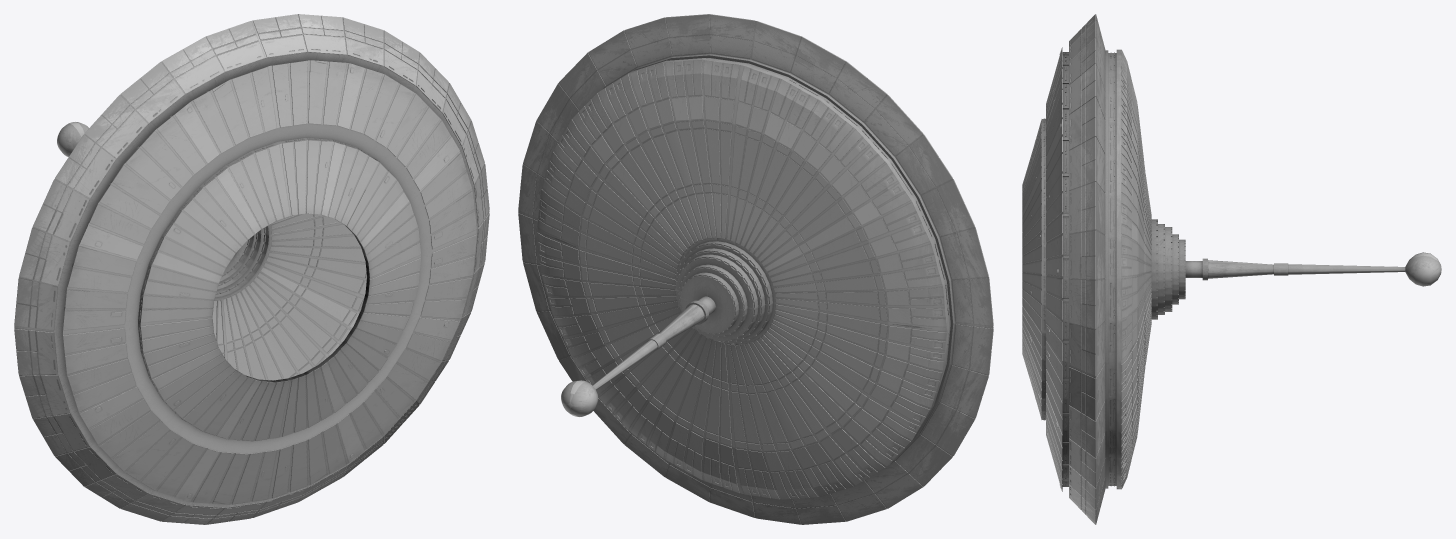
File: hull_LOD0.gltf
The picture shows the model from 3 angles, left to right: view 1: azimuth 30°, elevation 25°; view 2: azimuth 150°, elevation 25°; view 3: azimuth 270°, elevation 25°; orthographic projection. The views are drawn at different scales.
Parts seen in each view (by area): view 1: hull_LOD0; view 2: hull_LOD0; view 3: hull_LOD0.
Boxes of the visible parts, <box> form: hull_LOD0: <box>14,14,489,524</box>; hull_LOD0: <box>518,14,993,524</box>; hull_LOD0: <box>1022,14,1441,524</box>.
Bounding box in the file's own units: 11.52 × 11.52 × 9.45.
1 material, 1 textured.
